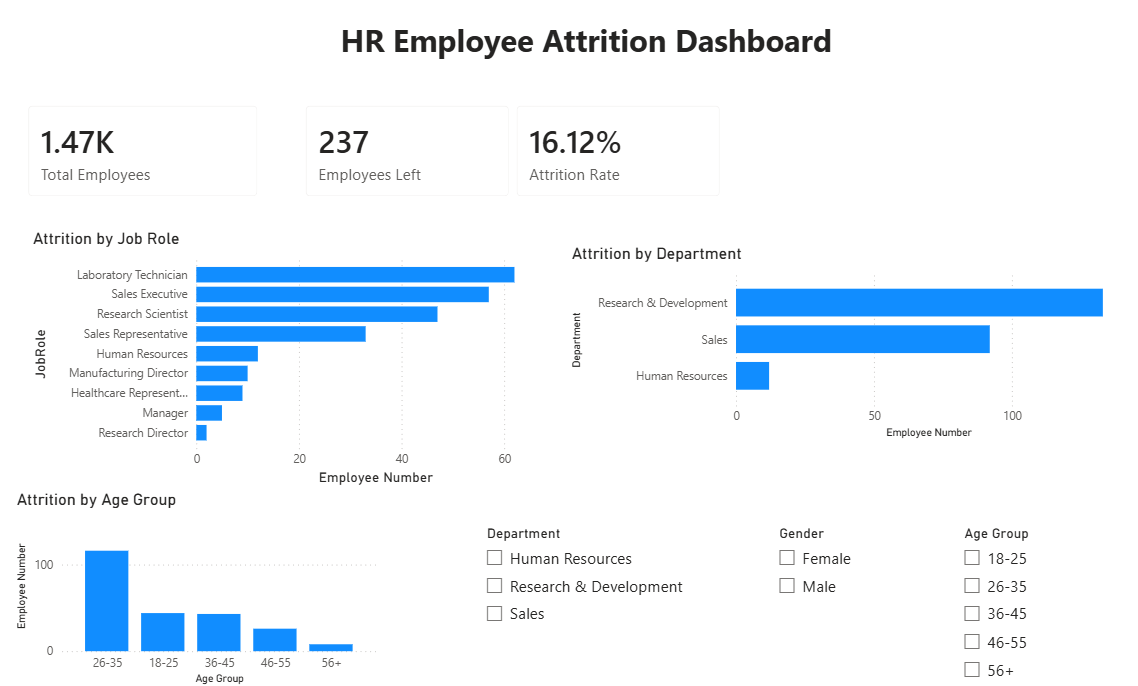

Layout of this report page (visuals, bound fields, positions):
{"tool":"powerbi","page":{"name":"Page 1","canvas":[1280,720],"ordinal":0},"visuals":[{"type":"cardVisual","fields":{"Data":["Count(WA_Fn-UseC_-HR-Employee-Attrition.EmployeeNumber)"]},"box":[16,96,272,128],"z":0},{"type":"cardVisual","fields":{"Data":["Count(WA_Fn-UseC_-HR-Employee-Attrition.EmployeeNumber)","WA_Fn-UseC_-HR-Employee-Attrition.Attrition Rate"]},"box":[304,96,464,128],"z":1},{"type":"clusteredBarChart","title":"Attrition by Department","fields":{"Category":["WA_Fn-UseC_-HR-Employee-Attrition.Department"],"Y":["Count(WA_Fn-UseC_-HR-Employee-Attrition.EmployeeNumber)"]},"box":[592,256,592,208],"z":2},{"type":"clusteredBarChart","title":"Attrition by Job Role","fields":{"Category":["WA_Fn-UseC_-HR-Employee-Attrition.JobRole"],"Y":["Count(WA_Fn-UseC_-HR-Employee-Attrition.EmployeeNumber)"]},"box":[32,240,560,272],"z":3},{"type":"clusteredColumnChart","title":"Attrition by Age Group","fields":{"Category":["WA_Fn-UseC_-HR-Employee-Attrition.Age Group"],"Y":["Count(WA_Fn-UseC_-HR-Employee-Attrition.EmployeeNumber)"]},"box":[16,512,384,208],"z":4},{"type":"slicer","fields":{"Values":["WA_Fn-UseC_-HR-Employee-Attrition.Department"]},"box":[496,544,288,176],"z":5},{"type":"slicer","fields":{"Values":["WA_Fn-UseC_-HR-Employee-Attrition.Age Group"]},"box":[992,544,192,176],"z":6},{"type":"slicer","fields":{"Values":["WA_Fn-UseC_-HR-Employee-Attrition.Gender"]},"box":[800,544,176,176],"z":7},{"type":"textbox","box":[352,0,592,80],"z":8}]}

Visuals, with their boxes on the page's 1280x720 design canvas (x1, y1, x2, y2). These are canvas units, not pixel positions in the 1138x686 screenshot, which may show the page scaled, cropped or inside an application window:
cardVisual - Count(WA_Fn-UseC_-HR-Employee-Attrition.EmployeeNumber): [16, 96, 288, 224]
cardVisual - Count(WA_Fn-UseC_-HR-Employee-Attrition.EmployeeNumber) x WA_Fn-UseC_-HR-Employee-Attrition.Attrition Rate: [304, 96, 768, 224]
"Attrition by Department" clusteredBarChart: [592, 256, 1184, 464]
"Attrition by Job Role" clusteredBarChart: [32, 240, 592, 512]
"Attrition by Age Group" clusteredColumnChart: [16, 512, 400, 720]
slicer - WA_Fn-UseC_-HR-Employee-Attrition.Department: [496, 544, 784, 720]
slicer - WA_Fn-UseC_-HR-Employee-Attrition.Age Group: [992, 544, 1184, 720]
slicer - WA_Fn-UseC_-HR-Employee-Attrition.Gender: [800, 544, 976, 720]
textbox: [352, 0, 944, 80]
